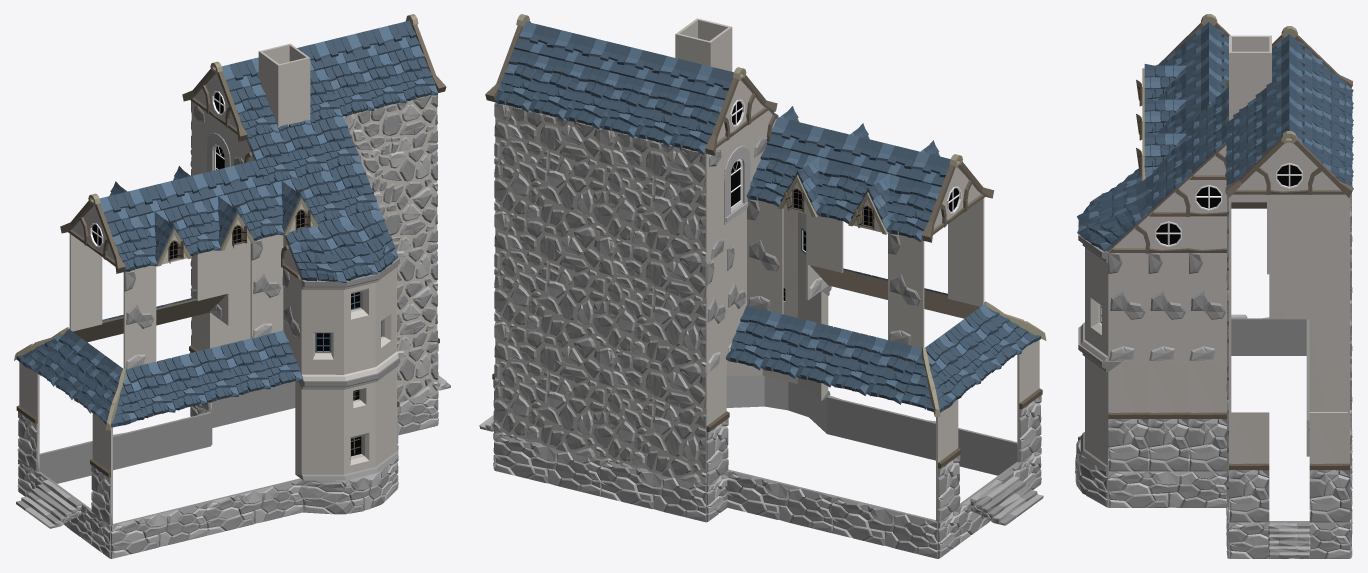
Rendered from HOUSE_17_PARTS.fbx.
3 renders of one model, left to right at view 1: azimuth 30°, elevation 25°; view 2: azimuth 150°, elevation 25°; view 3: azimuth 270°, elevation 25°, orthographic. The views are drawn at different scales.
Parts seen in each view (by area): view 1: BALKON_03_2, BALKON_04_2, WALL_02_4, ROOF_base_round_2, WALL_02_3, WALL_02_2, FOUNDATION_01_3, FOUNDATION_01_2, FOUNDATION_01_6, WALL_03_5, FOUNDATION_02_2, WALL_03_3 (+61 smaller); view 2: WALL_02_8, WALL_02_10, WALL_02_9, WALL_02_7, WALL_02_5, WALL_02_6, WINDOW_07_2, FOUNDATION_01_5, FOUNDATION_01_2, FOUNDATION_01_6, WALL_03_6, FOUNDATION_01_7 (+56 smaller); view 3: WALL_04_22, WALL_03_12, WALL_03_9, WALL_03_8, WALL_04_25, WALL_04_26, FOUNDATION_01_11, WALL_04_23, WALL_03_11, WALL_03_10, WALL_04_24, WALL_04_21 (+66 smaller).
Part boxes in pixels (x1,y1,x2,y2): BALKON_03_2: (295,358,399,480); BALKON_04_2: (301,257,399,380); WALL_02_4: (343,95,437,207); ROOF_base_round_2: (284,210,397,282); WALL_02_3: (379,193,437,302); WALL_02_2: (397,293,437,402); FOUNDATION_01_3: (111,501,207,558); FOUNDATION_01_2: (205,478,302,535); FOUNDATION_01_6: (114,411,211,469); WALL_03_5: (123,265,156,369); FOUNDATION_02_2: (301,458,397,514); WALL_03_3: (250,234,283,338); WALL_02_8: (600,349,707,484); WALL_02_10: (600,128,706,263); WALL_02_9: (600,239,706,374); WALL_02_7: (494,102,600,238); WALL_02_5: (494,323,600,459); WALL_02_6: (494,213,600,348); WINDOW_07_2: (704,111,767,264); FOUNDATION_01_5: (831,495,938,558); FOUNDATION_01_2: (827,395,934,459); FOUNDATION_01_6: (726,469,833,532); WALL_03_6: (888,232,924,347); FOUNDATION_01_7: (599,460,707,522); WALL_04_22: (1148,361,1188,471); WALL_03_12: (1269,202,1309,311); WALL_03_9: (1148,253,1188,361); WALL_03_8: (1108,252,1148,361); WALL_04_25: (1229,412,1269,522); WALL_04_26: (1309,412,1349,522); FOUNDATION_01_11: (1108,470,1226,507); WALL_04_23: (1188,361,1227,471); WALL_03_11: (1309,202,1347,311); WALL_03_10: (1188,253,1226,361); WALL_04_24: (1309,311,1347,411); WALL_04_21: (1108,361,1148,471).
Size of the model in its own units: 1408 by 1200 by 693.
